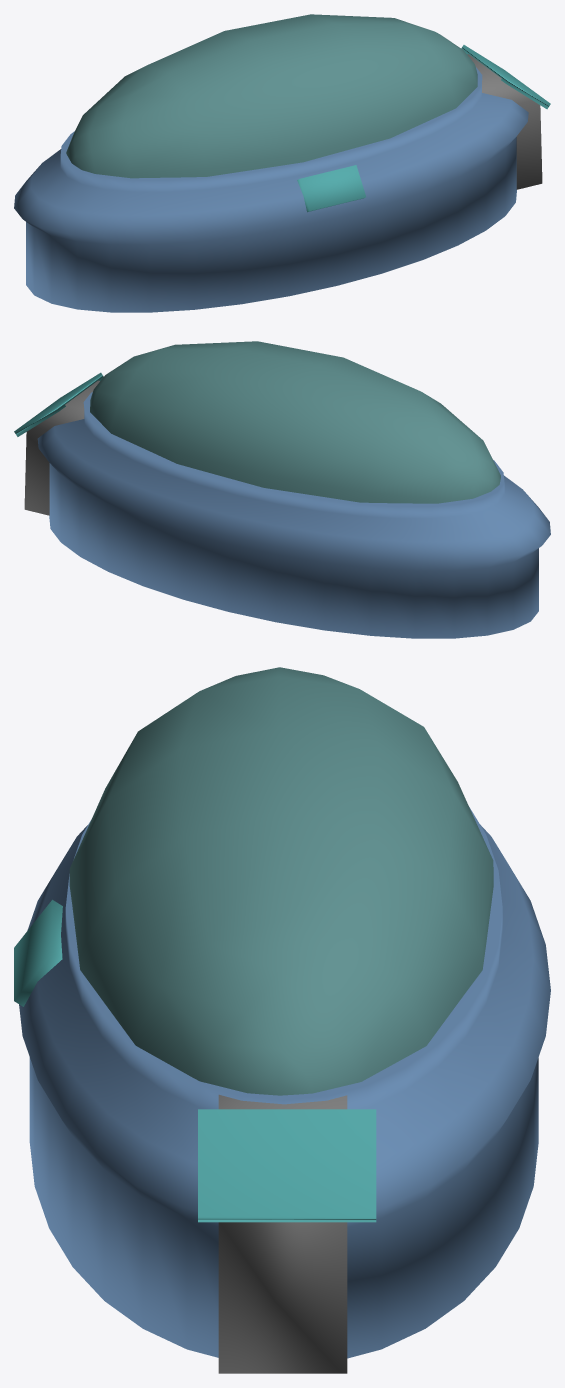
The model's file is Vast bed 1.fbx.
The picture shows the model from 3 angles, top to bottom: view 1: azimuth 30°, elevation 25°; view 2: azimuth 150°, elevation 25°; view 3: azimuth 270°, elevation 25°; orthographic projection. The views are drawn at different scales.
Parts seen in each view (by area): view 1: PM3D_Plane3D176_010; view 2: PM3D_Plane3D176_010; view 3: PM3D_Plane3D176_010.
Part boxes in pixels (left/top/right/bottom): PM3D_Plane3D176_010: left=14, top=14, right=550, bottom=312; PM3D_Plane3D176_010: left=14, top=341, right=550, bottom=638; PM3D_Plane3D176_010: left=14, top=667, right=550, bottom=1373.
Bounding box in the file's own units: 342 × 131 × 163.
